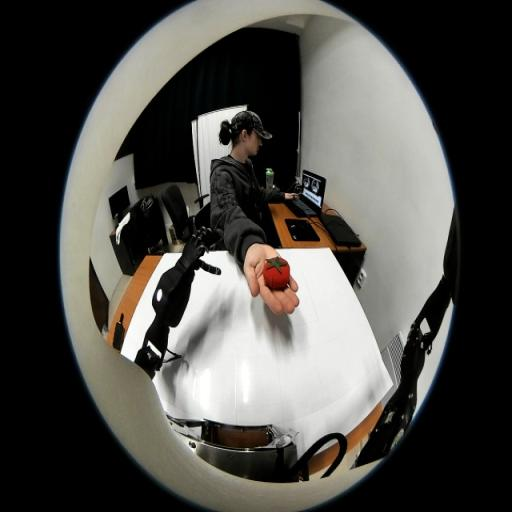LeftHand: (184, 243, 198, 259)
Tomato: (263, 256, 290, 289)
